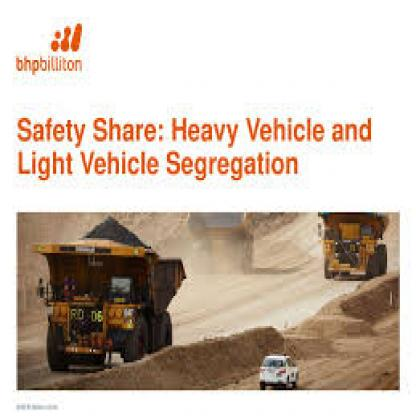dump_truck: (29, 212, 191, 378), (310, 208, 398, 292), (180, 210, 265, 283)
light_vehicle: (249, 336, 302, 382)
